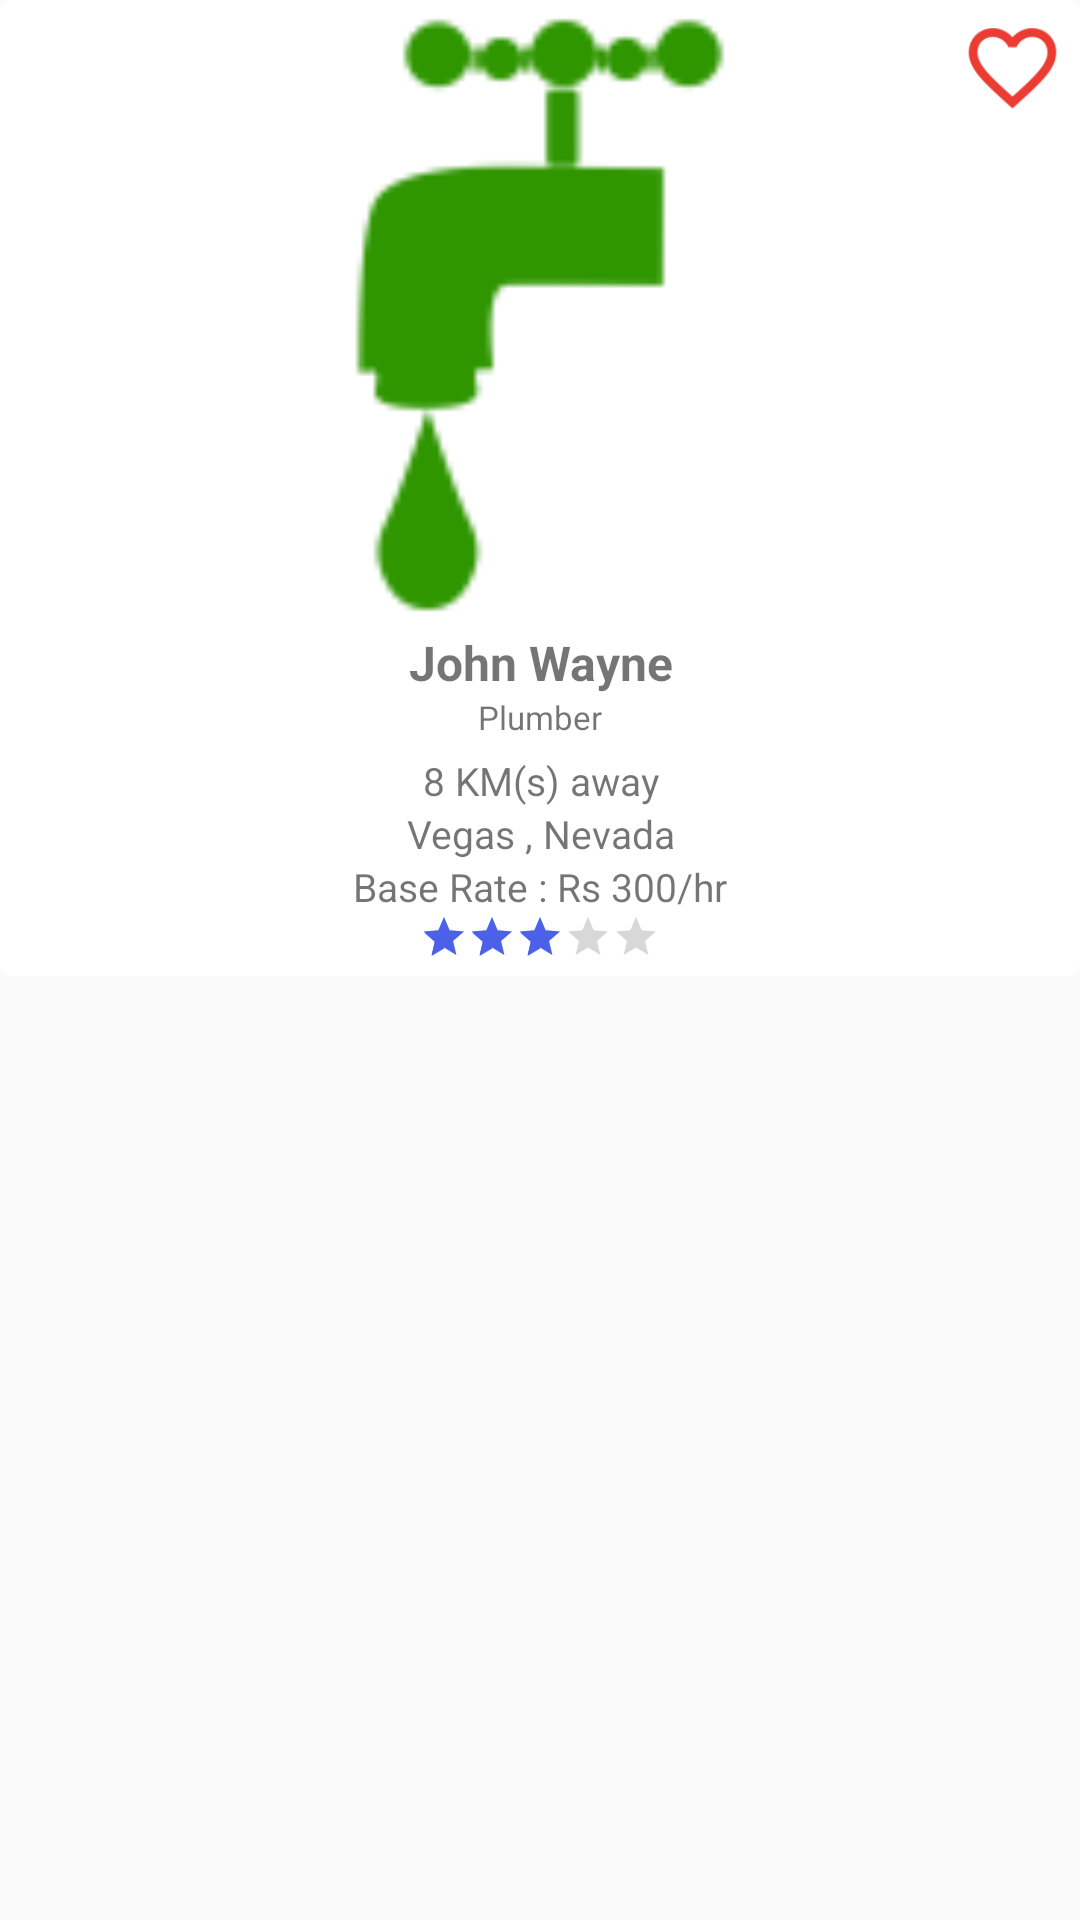

Where to tap for icons on this 1080 × 1920 app screen, as [x,y]:
favorite on: [1012,68]
